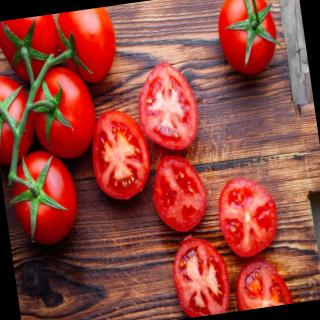Tomat: (4, 147, 84, 250), (26, 63, 102, 164), (133, 59, 204, 156), (87, 106, 156, 205), (213, 1, 285, 79), (148, 150, 212, 236), (55, 7, 122, 88)
